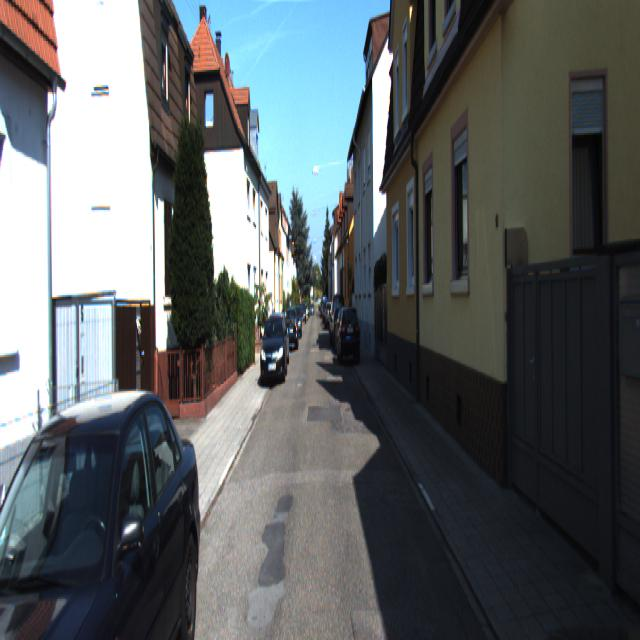Car: (0, 374, 205, 638), (262, 312, 288, 384), (337, 306, 361, 369), (284, 309, 298, 353)
